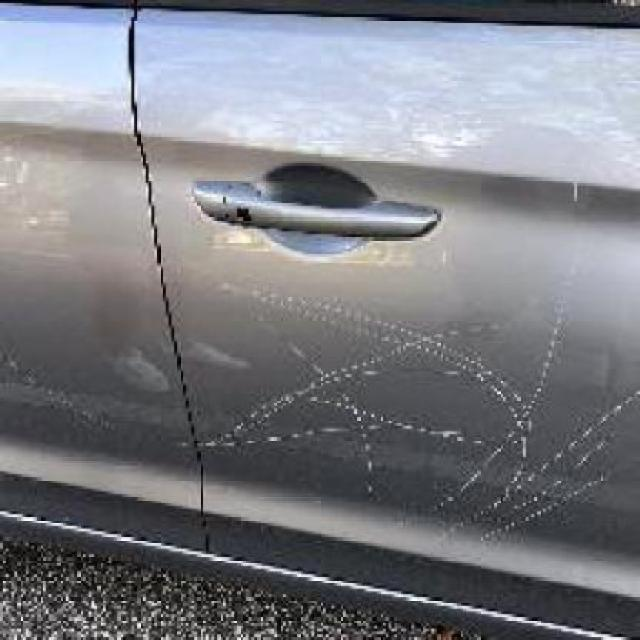dent-or-scratch: (268, 297, 638, 552)
